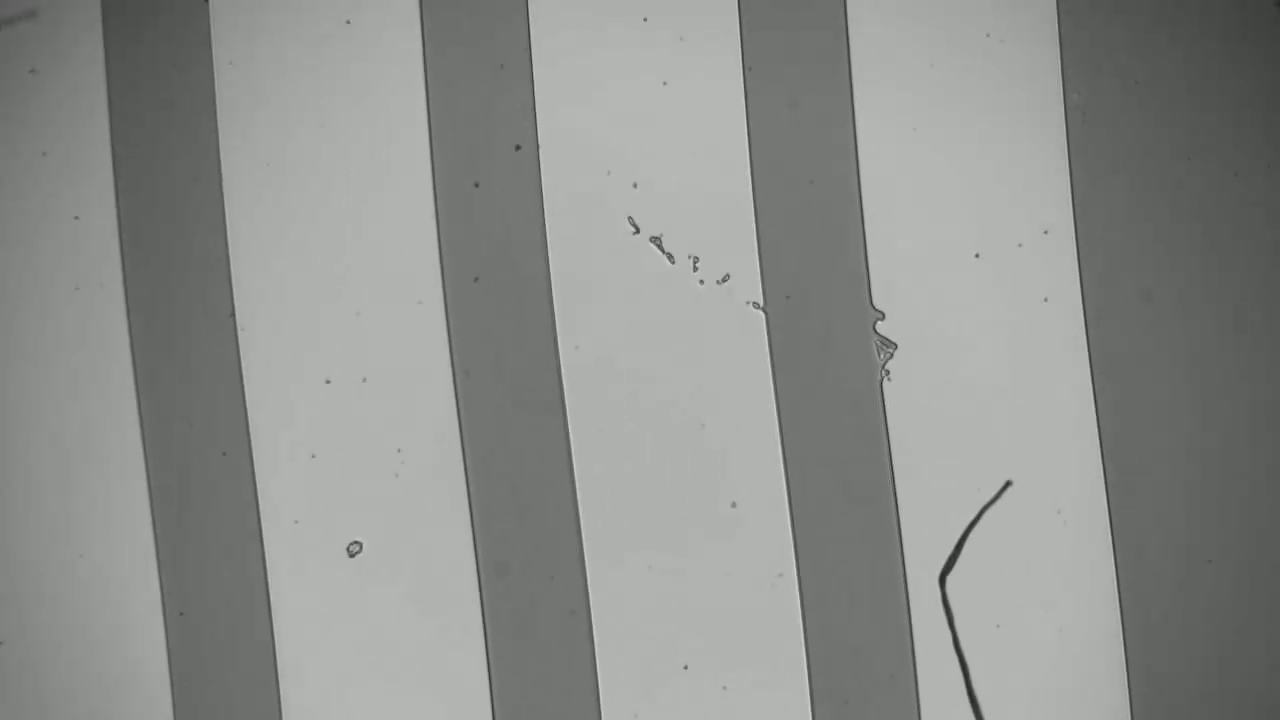edge_bite: (859, 326, 915, 380), (852, 293, 896, 329)
